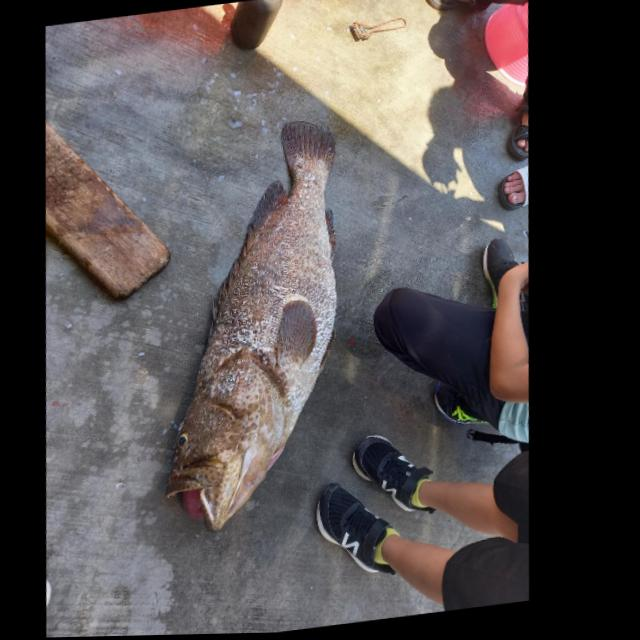Groupers: (120, 113, 385, 537)
